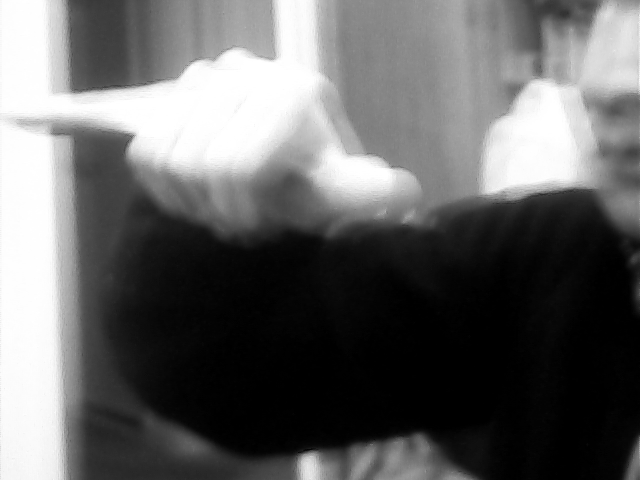aloha: (1, 44, 430, 253)
